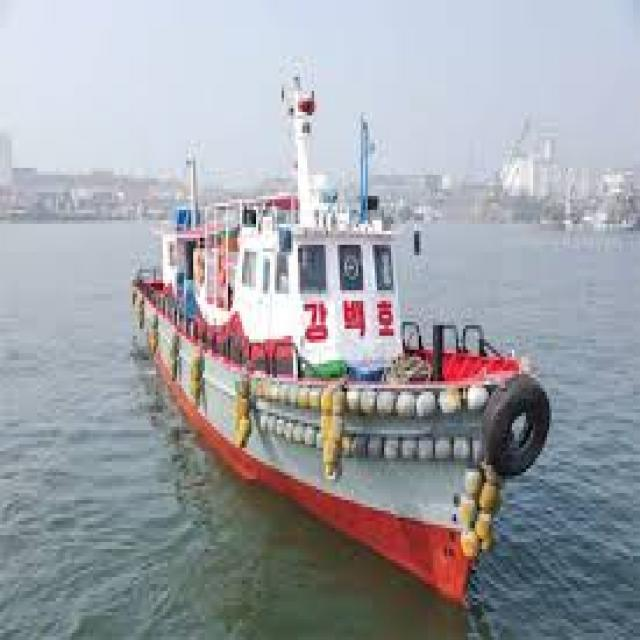Ship: (124, 47, 562, 617)
